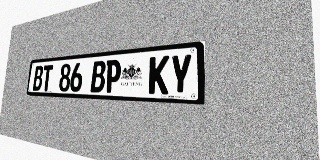6: (69, 62, 84, 92)
8: (58, 63, 72, 92)
B: (90, 61, 106, 93), (32, 66, 44, 91)
K: (148, 55, 169, 94)
P: (104, 59, 122, 93)
T: (41, 65, 53, 91)
Y: (169, 54, 193, 95)
